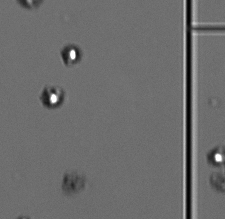Dead Cell: (59, 169, 86, 195), (15, 1, 45, 10)
Living Cell: (40, 85, 64, 110), (61, 43, 81, 65), (209, 144, 224, 166)
